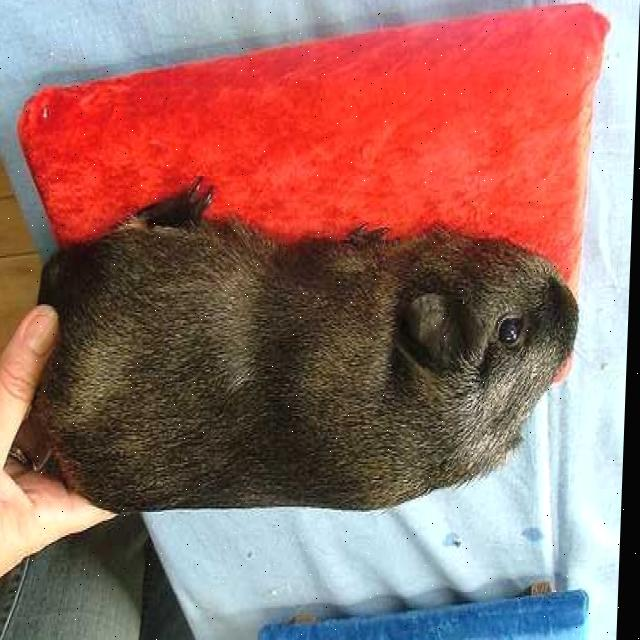guinea pig: (31, 196, 589, 514)
